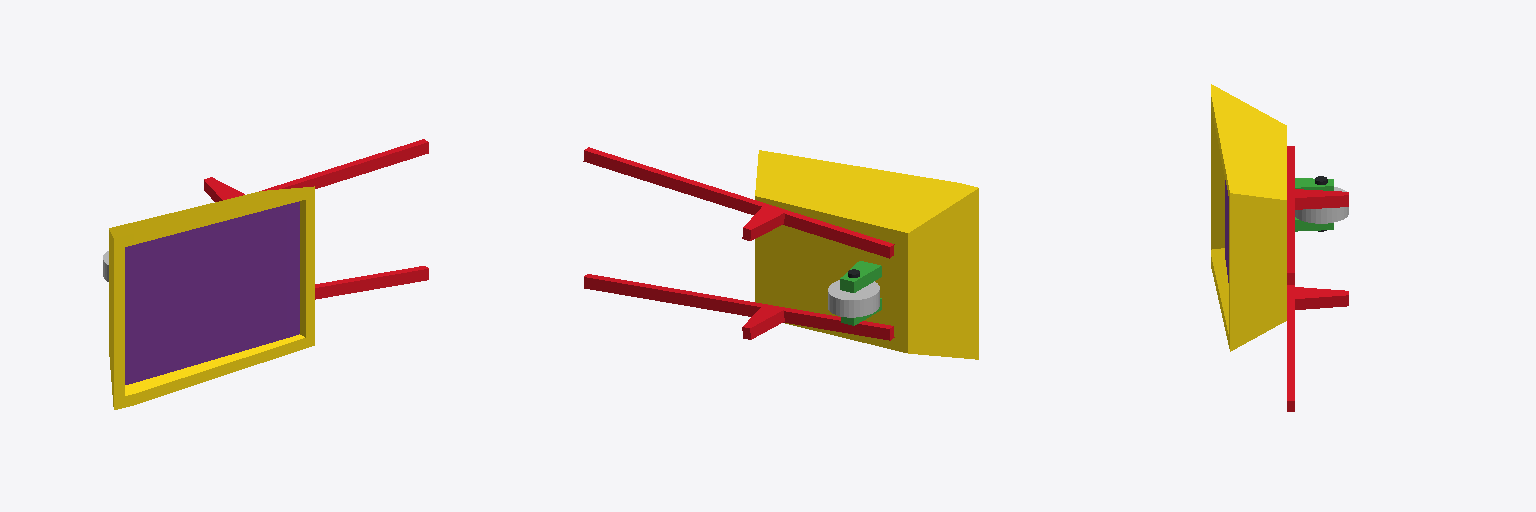
Rendered from TorqueWheelbarrow.obj.
3 views of the same model, side by side, from view 1: azimuth 30°, elevation 25°; view 2: azimuth 150°, elevation 25°; view 3: azimuth 270°, elevation 25° (orthographic).
Parts seen in each view (by area): view 1: obj_0; view 2: obj_0; view 3: obj_0.
Boxes of the visible parts, <box> form: obj_0: <box>103,139,428,409</box>; obj_0: <box>583,147,978,359</box>; obj_0: <box>1211,84,1348,411</box>.
Size of the model in its own units: 40.98 by 19.05 by 13.88.